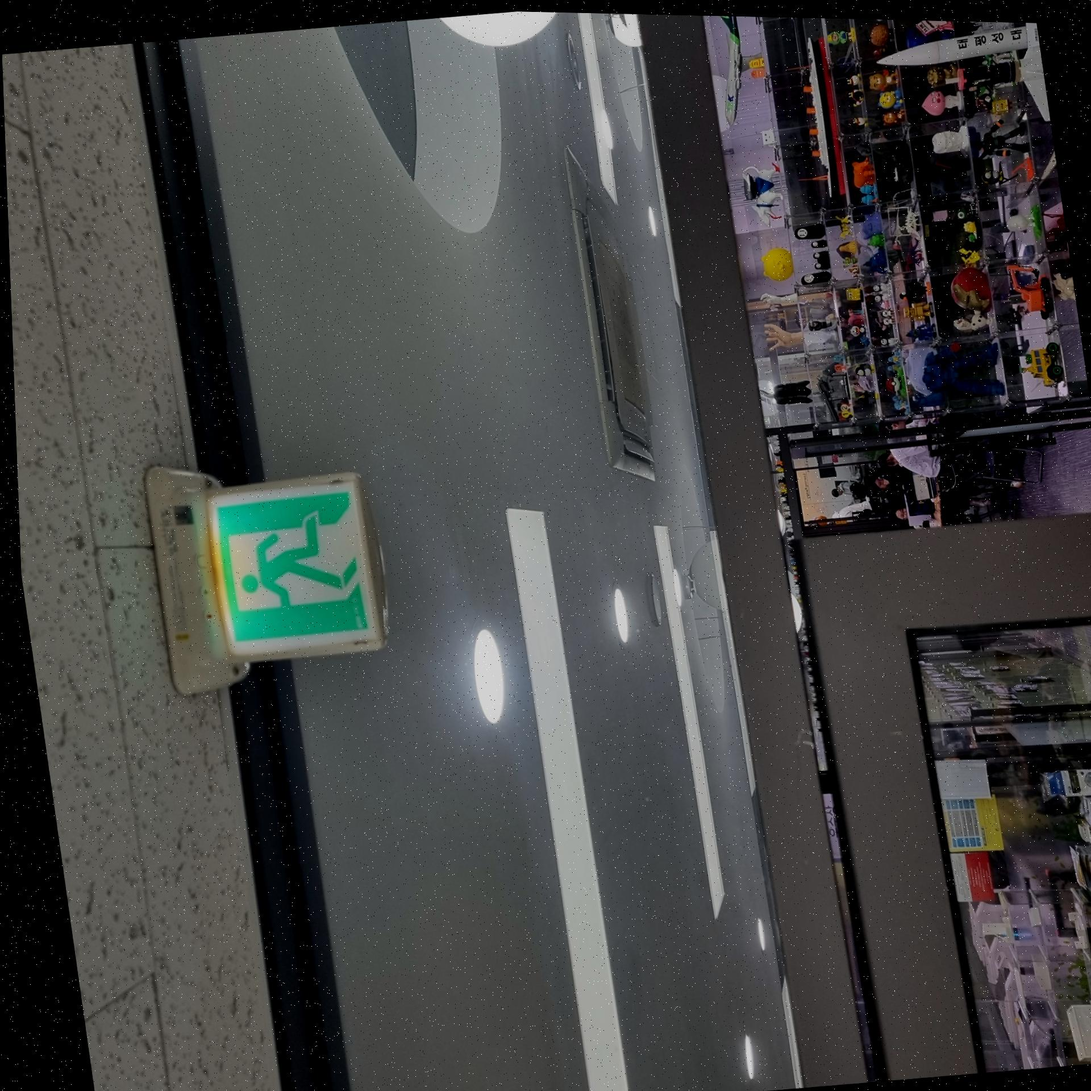emergency_exit: (145, 464, 390, 696), (203, 470, 388, 664)
